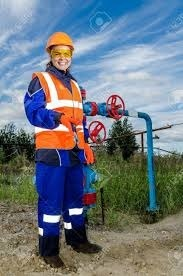helmet: (45, 32, 74, 52)
person with full safety: (23, 30, 103, 267)
safety vest: (30, 71, 89, 150)
